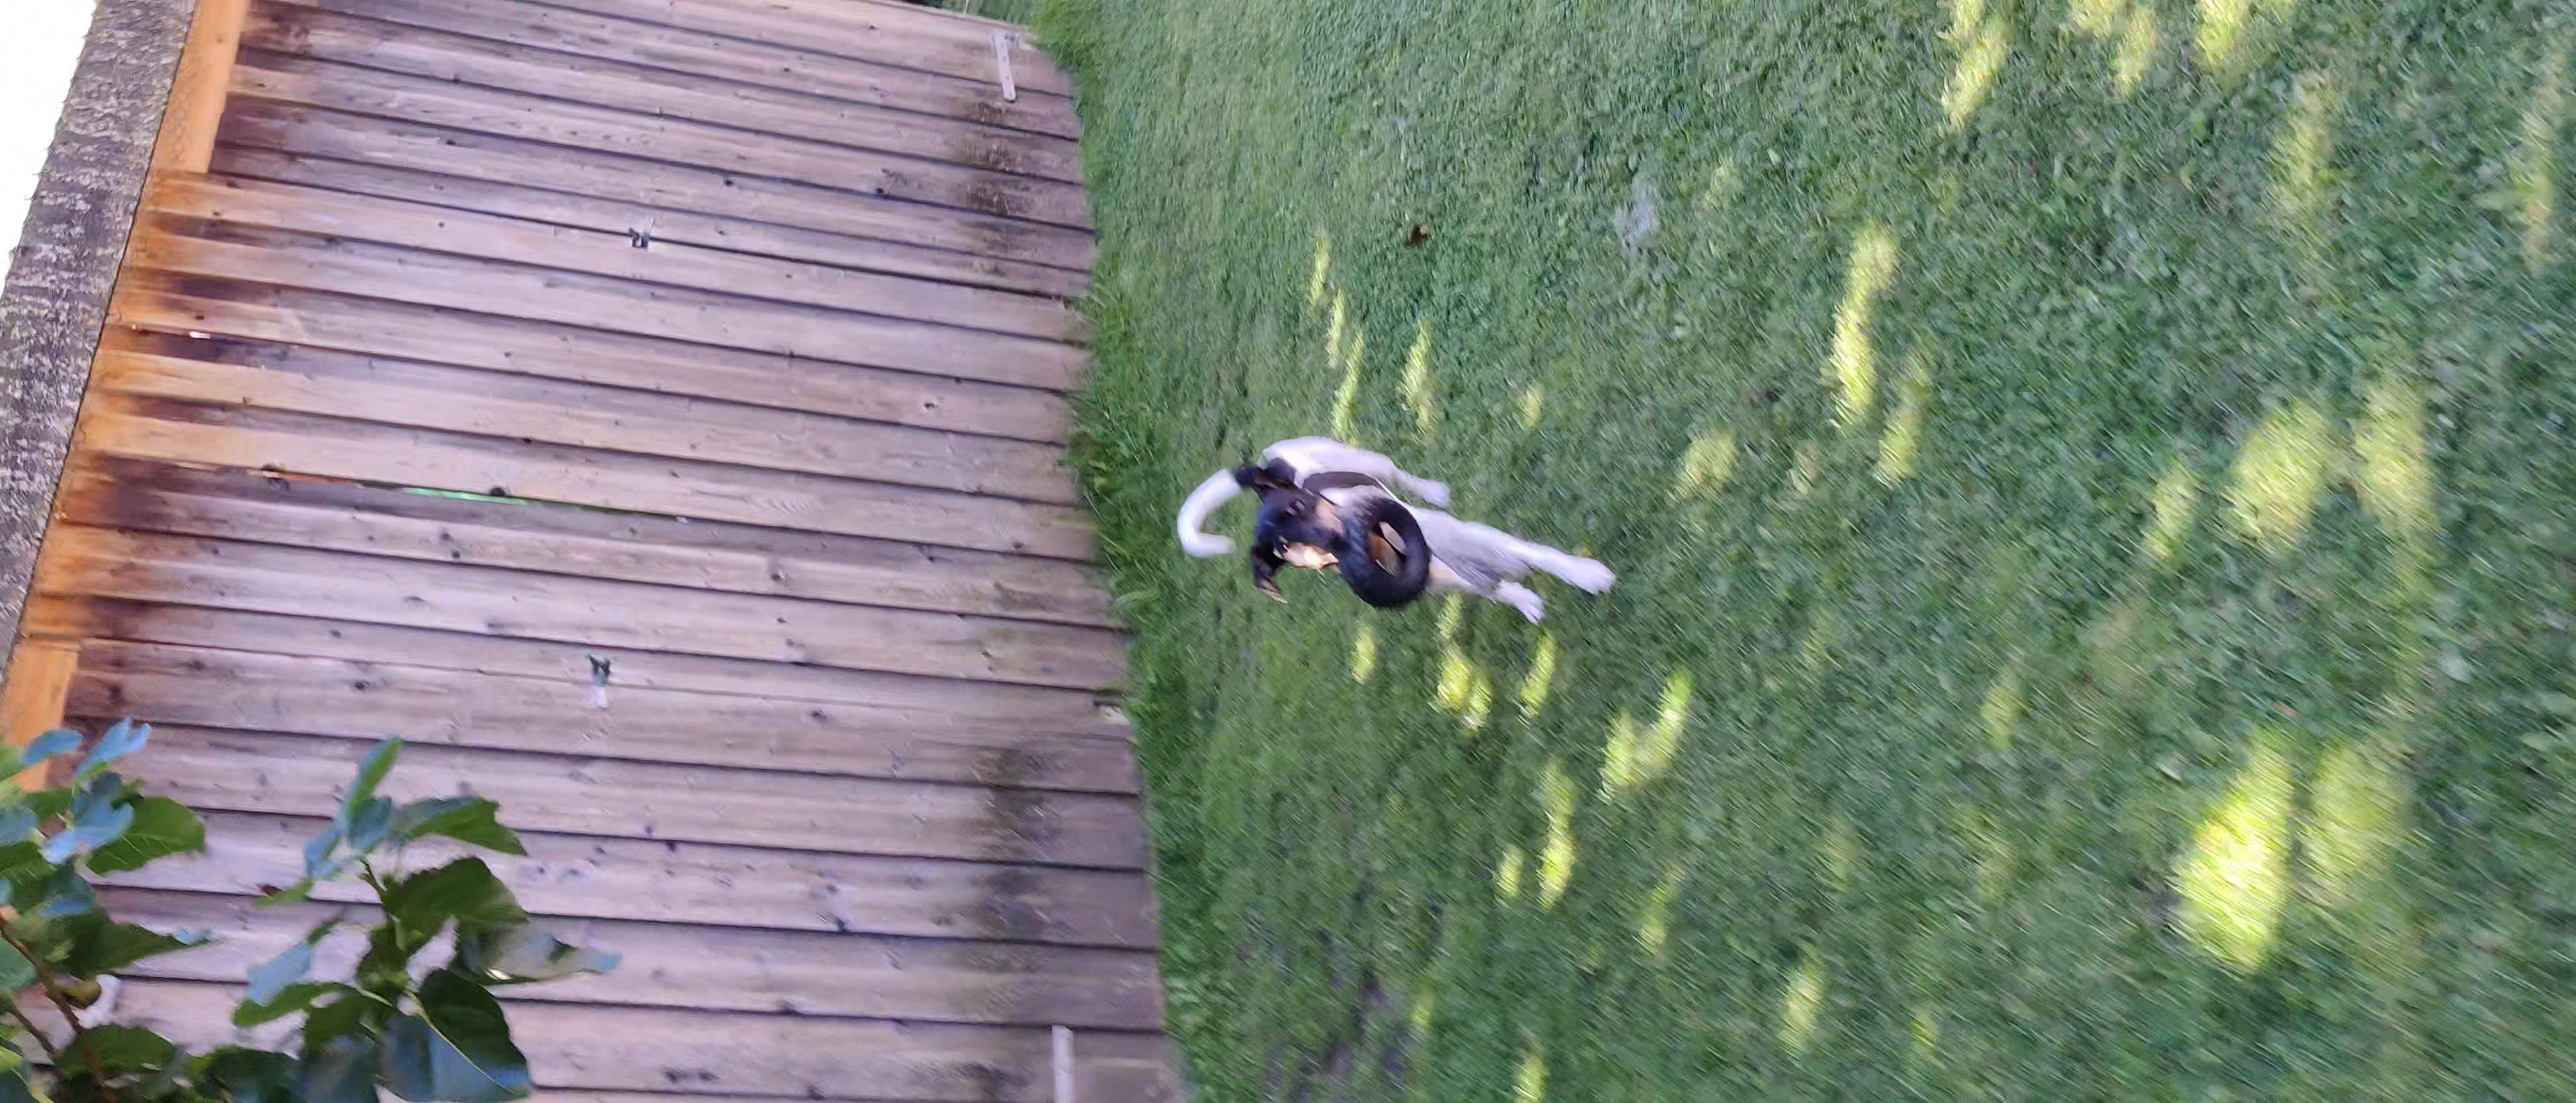Dog: (1148, 419, 1628, 638)
